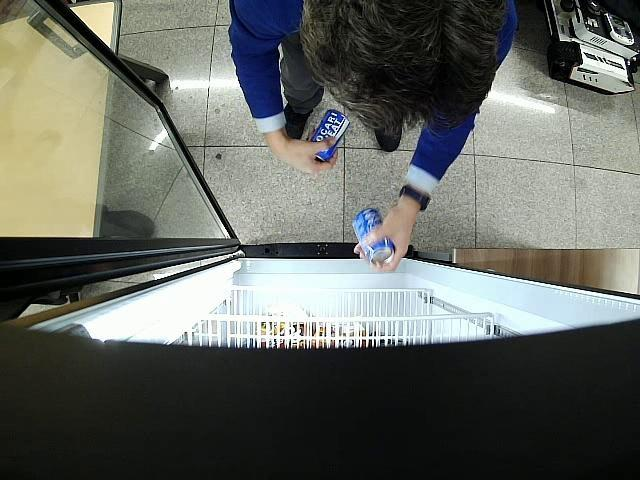13_pocariSweat: (352, 208, 394, 264), (308, 110, 349, 162)
